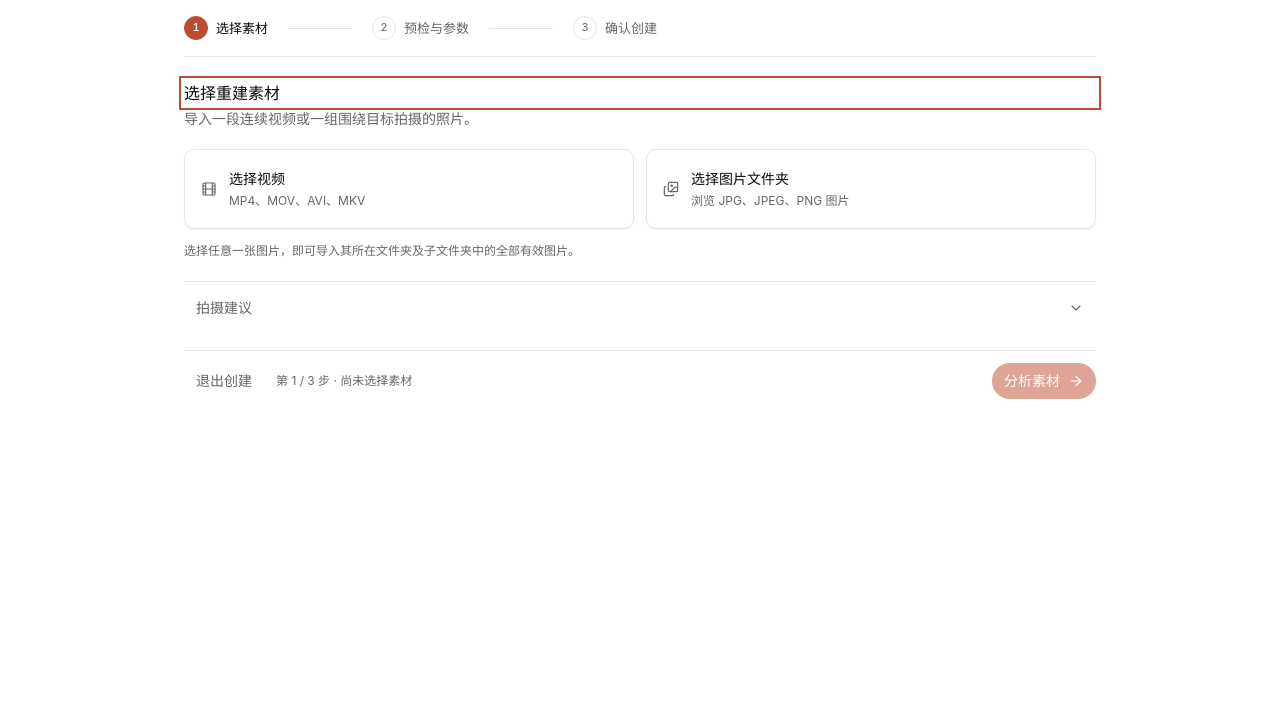
Test: NewProjectPage › keeps directory preflight failures inline and prevents project creation
Click the button "选择视频 MP4、MOV、AVI、MKV" at coordinates (257, 178), box [184, 149, 634, 229]
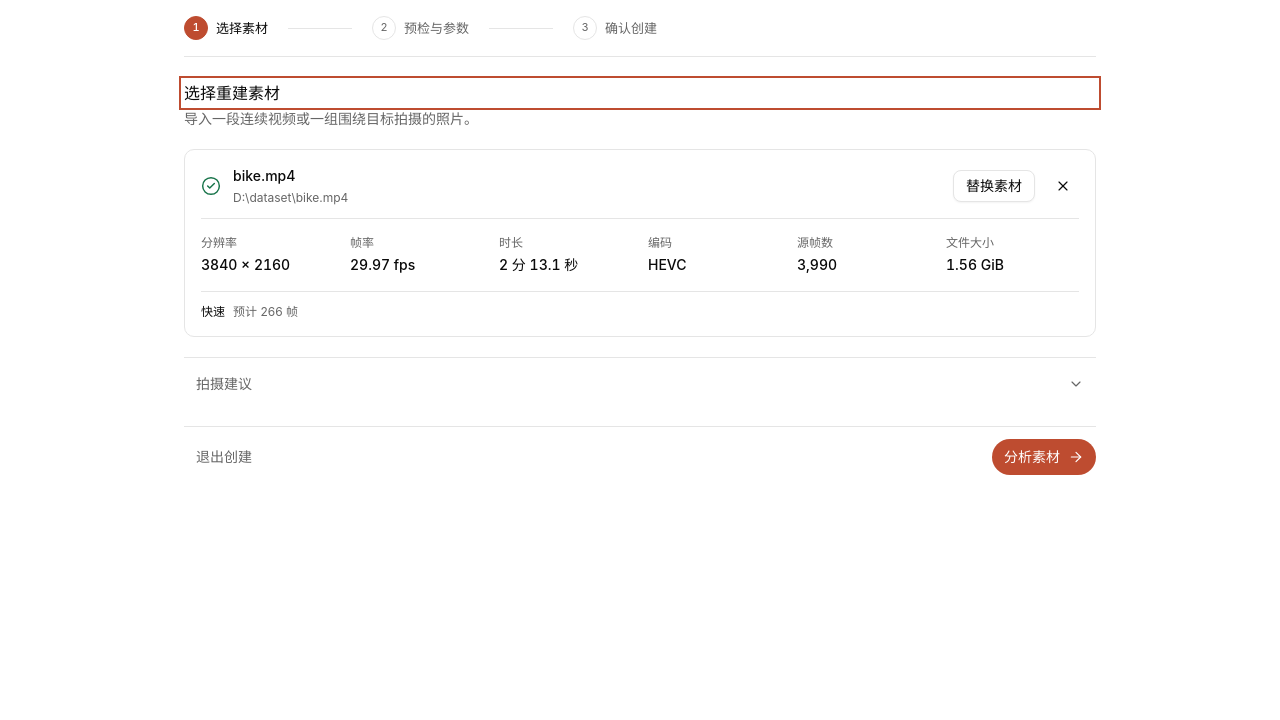
Expected: the text "3840 × 2160" is shown, [201, 256, 290, 273]
Click the button named "下一步" at coordinates (1044, 457), box [992, 439, 1096, 475]
(page scrolled)
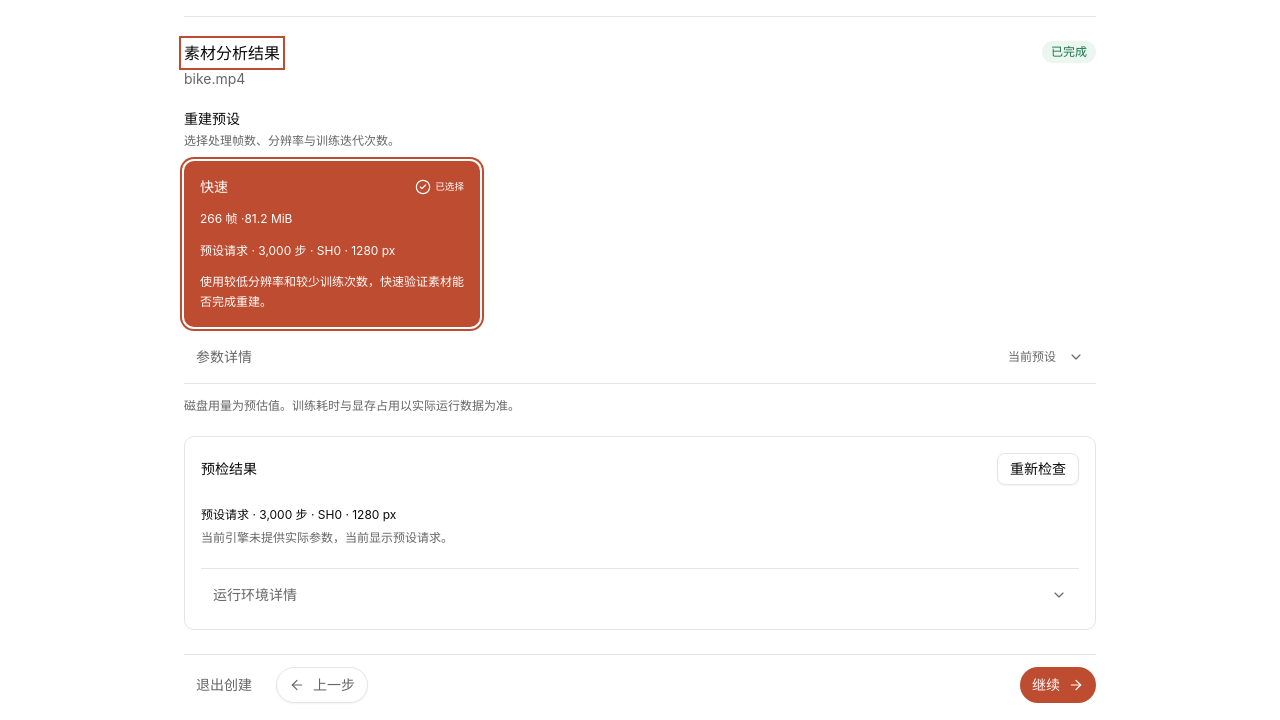
Click the button named "下一步" at coordinates (1058, 684), box [1020, 666, 1096, 702]
(page scrolled)
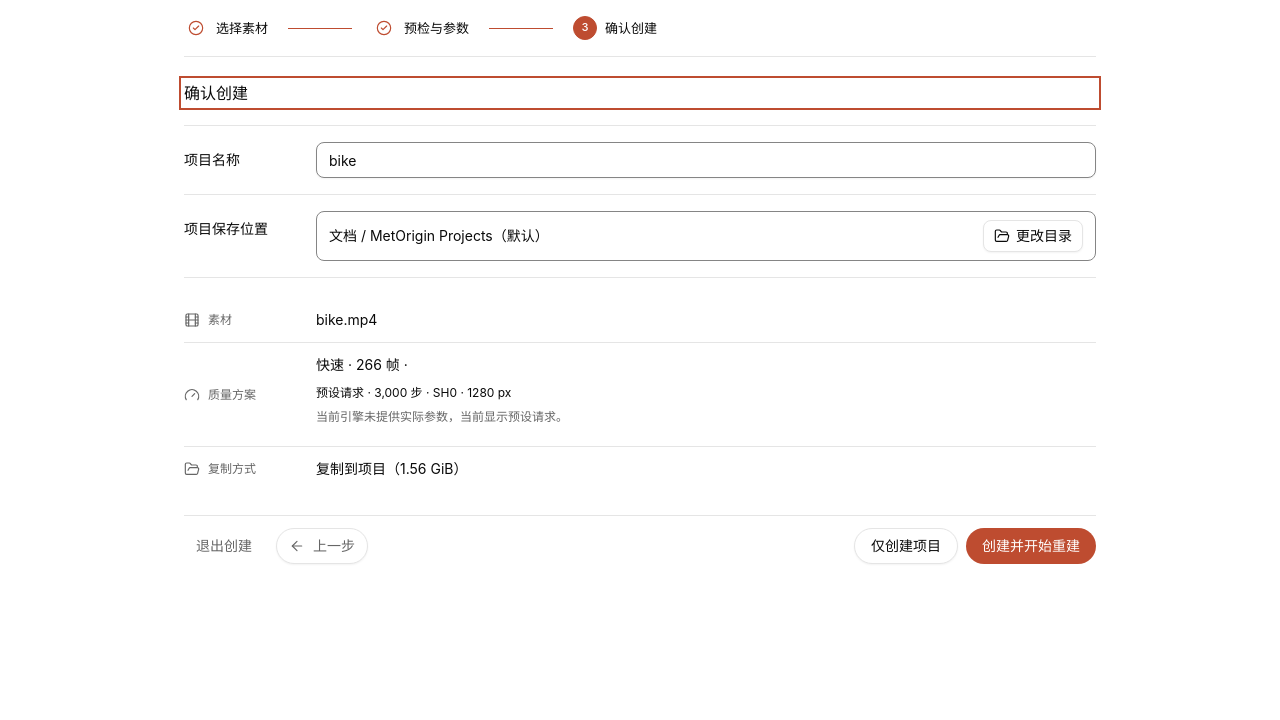
Click the button "更改目录" at coordinates (1033, 236), box [983, 220, 1083, 252]
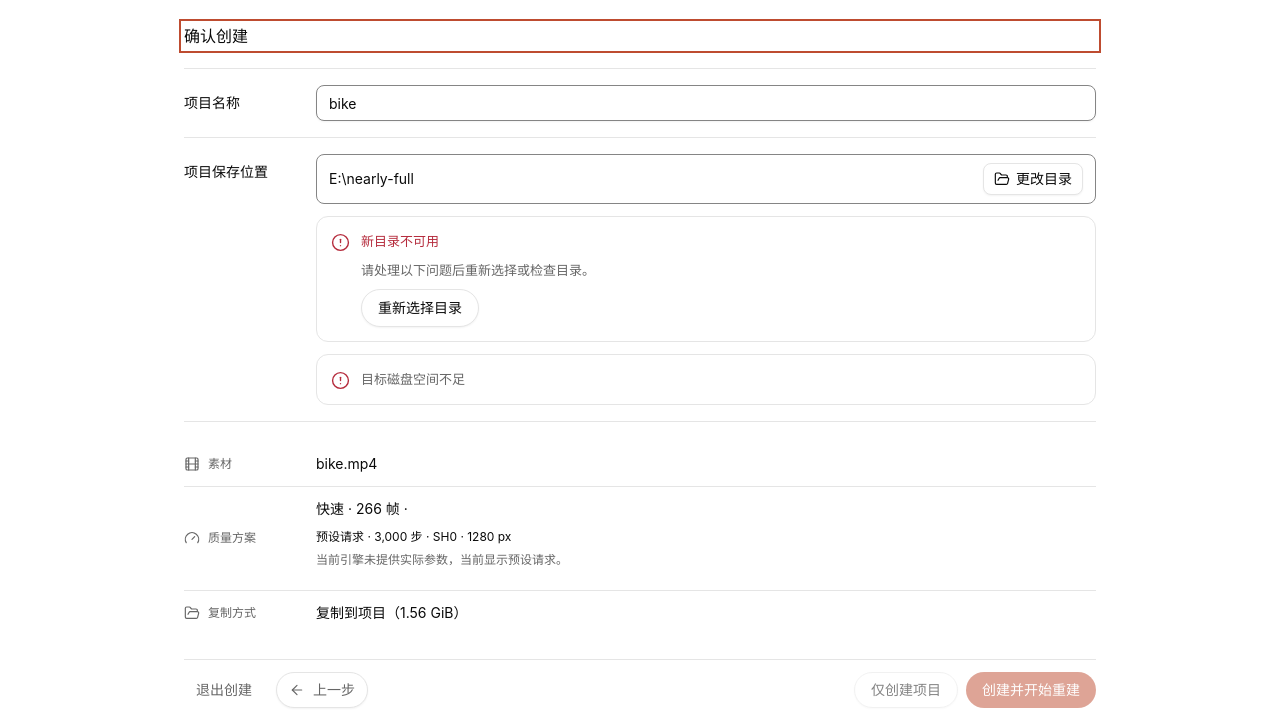
Expected: the heading "确认创建" is shown, [184, 26, 248, 46]
Expected: the message "新目录不可用 请处理以下问题后重新选择或检查目录。 重新选择目录" is shown, [316, 216, 1096, 342]
Expected: the text "目标磁盘空间不足" is shown, [361, 371, 465, 387]
